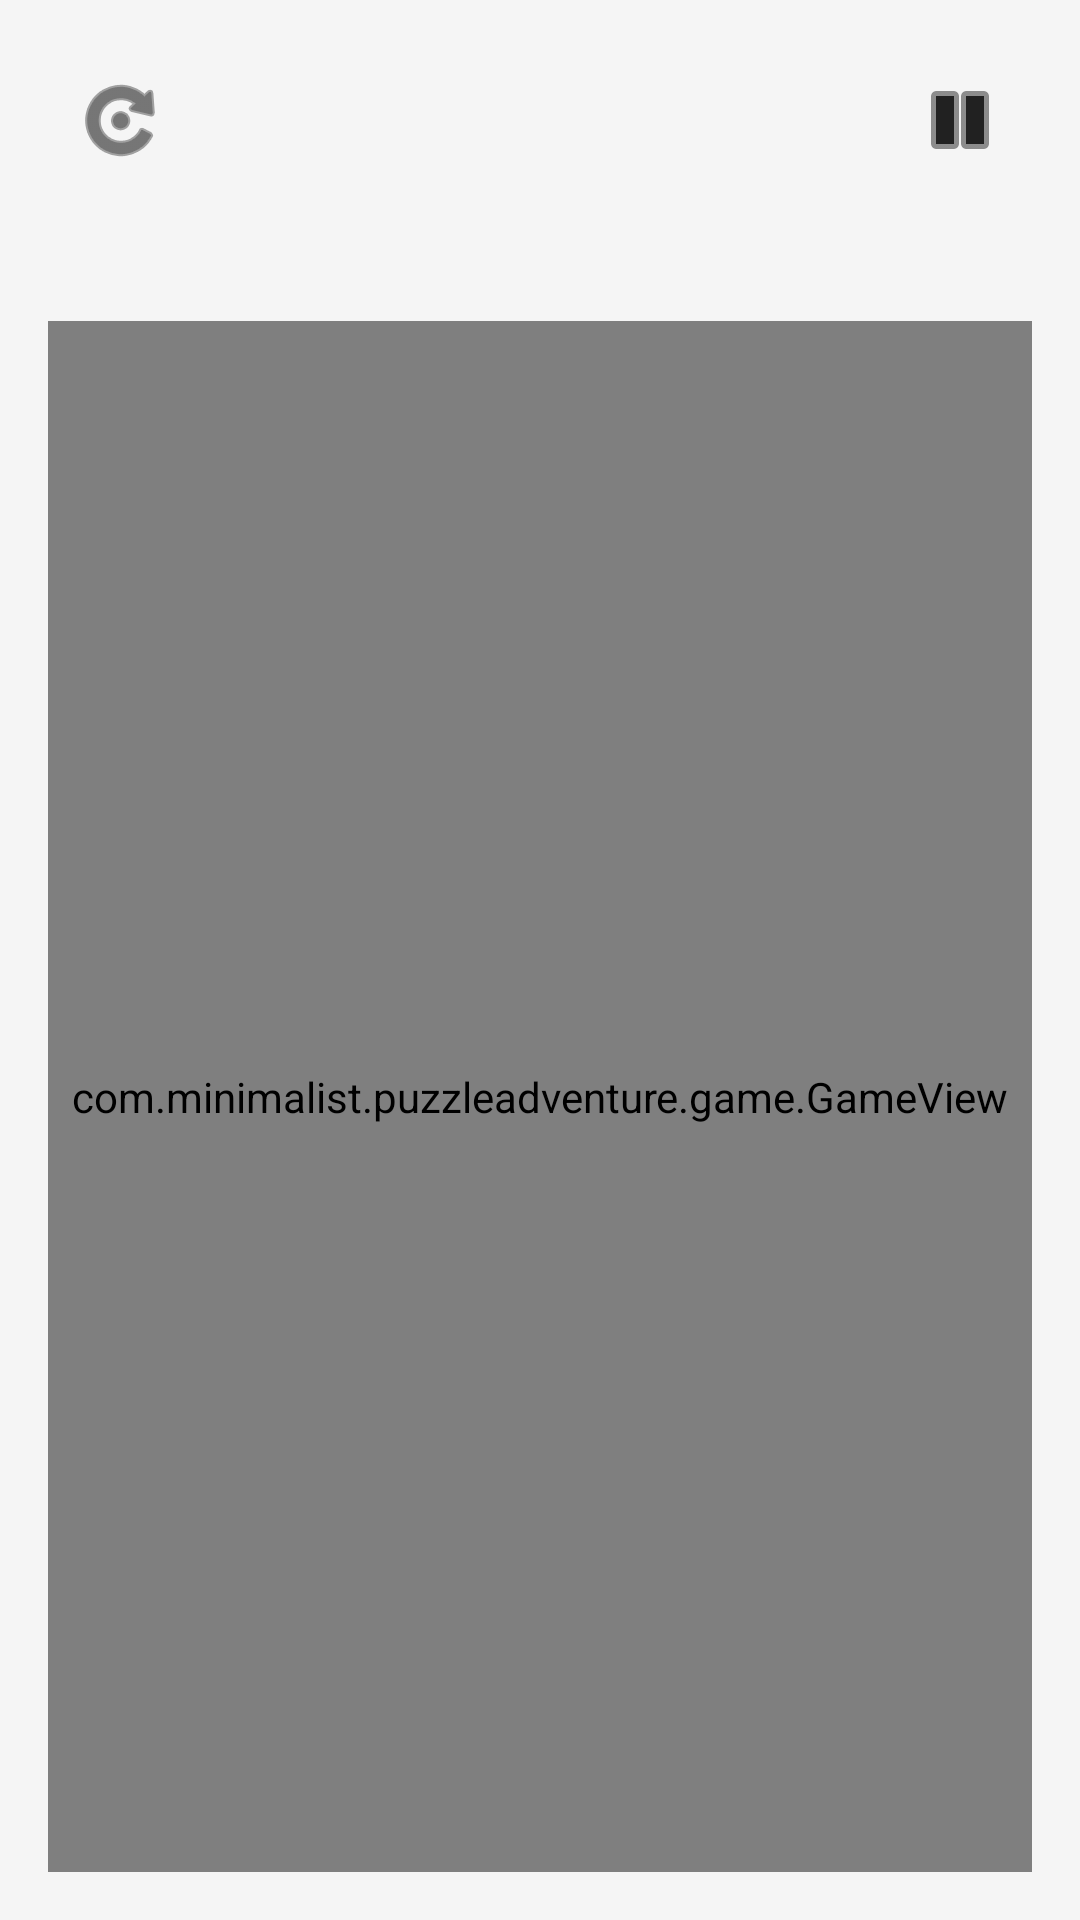

Where to tap for icons on this 1080x1920 app screen, as (x=x, y=y):
Pause: (x=960, y=120)
Restart: (x=120, y=120)
